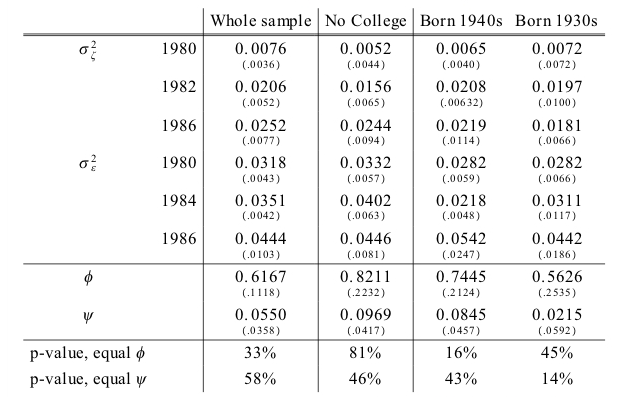column: (7, 1, 204, 392), (503, 1, 623, 397), (201, 1, 321, 395), (319, 1, 415, 396), (414, 1, 503, 397)
row: (5, 33, 623, 73), (1, 262, 623, 301), (2, 151, 622, 189), (4, 74, 623, 112), (1, 226, 623, 263), (3, 112, 623, 149), (1, 303, 623, 339), (1, 192, 623, 225), (5, 1, 622, 32), (1, 340, 622, 368)
